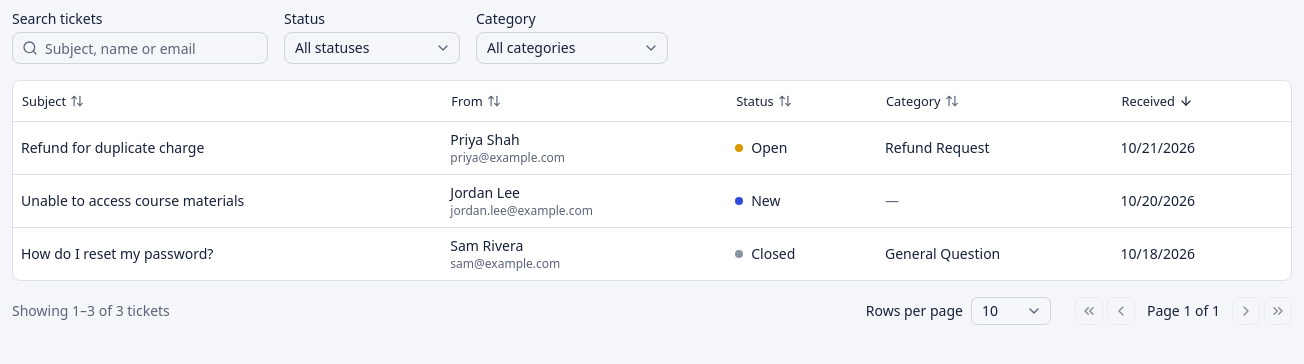
Test: TicketsTable › filters › filters by status on the server and puts it in the URL
Check: the link "Refund for duplicate charge" is shown, box [21,138,204,156]
Click the dropdown labelled "status" at (372, 48), box [284,32,460,64]
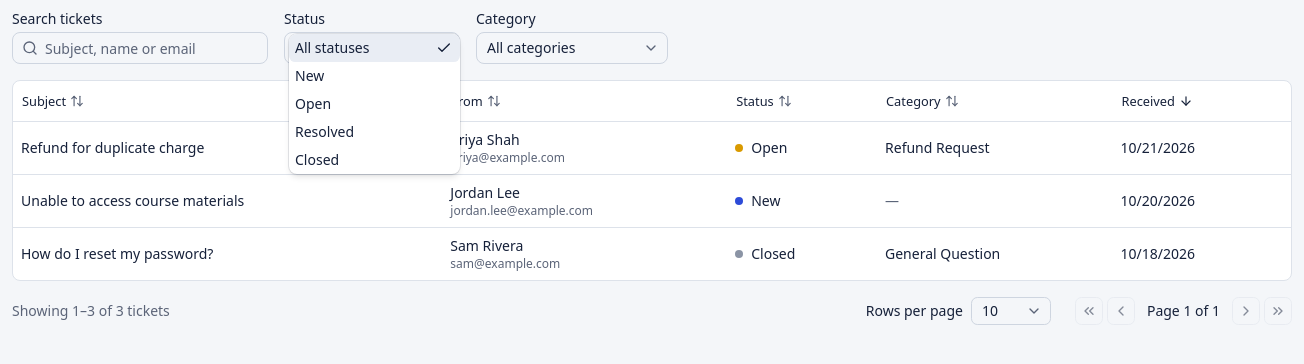
Click the option "Closed" at (317, 160), box [295,150,339,169]
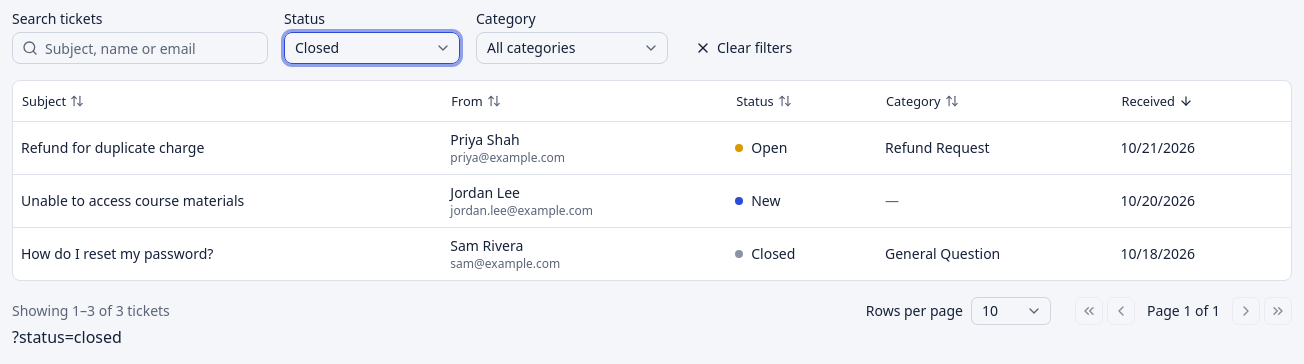
Check: the text with test id "location-search" reads "?status=closed", box [12,326,122,348]
Check: the dropdown named "Status" reads "Closed", box [284,32,460,64]
